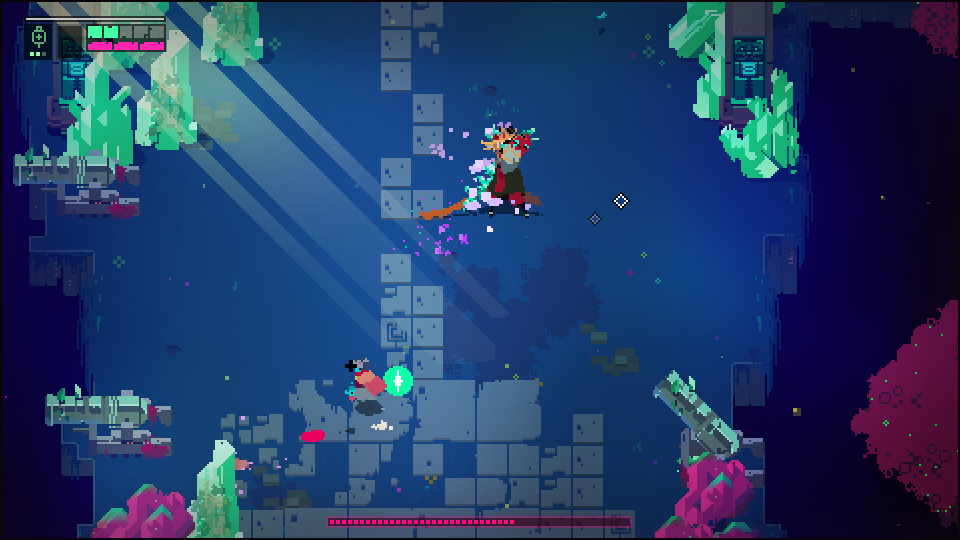hanged_man: (456, 121, 544, 221)
hanged_shot: (382, 366, 411, 397)
player: (346, 356, 386, 407)
